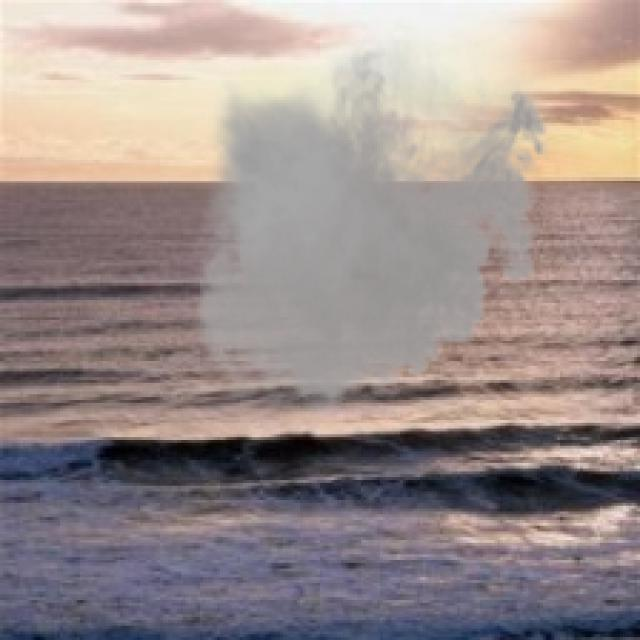smoke: (183, 26, 560, 428)
